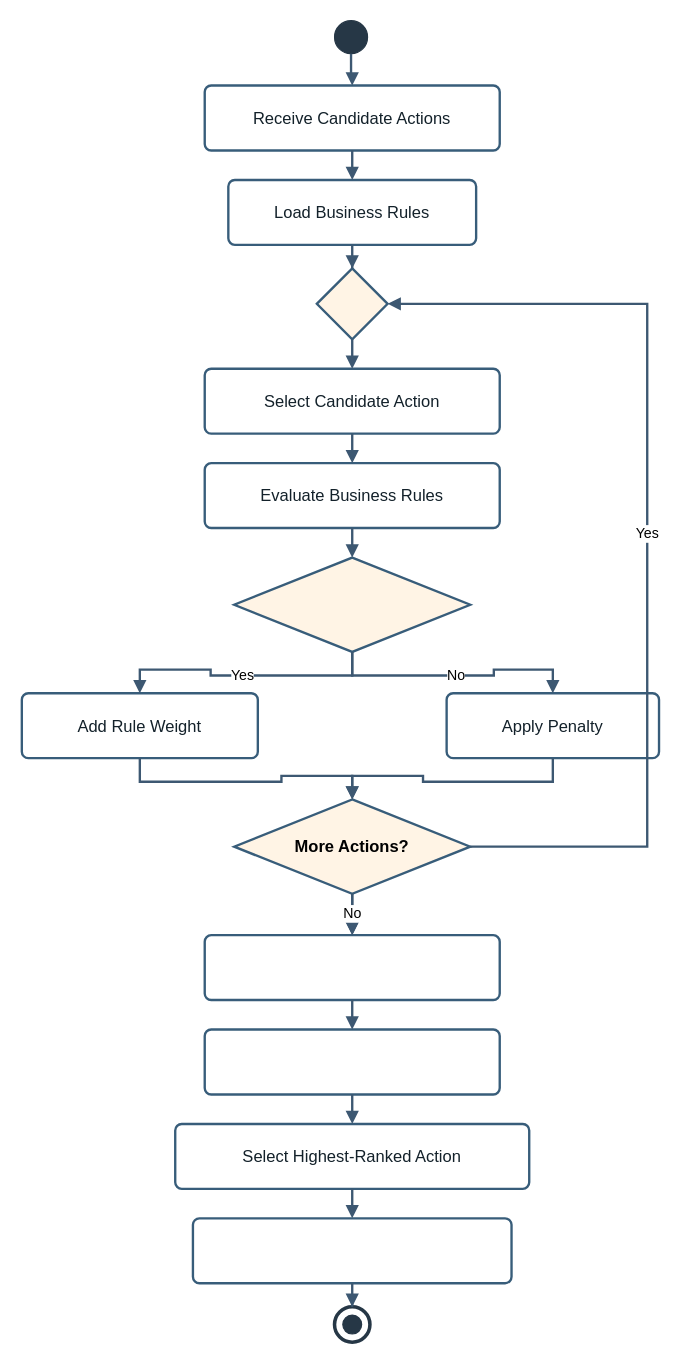
The diagram is 680 pixels wide and 1364 high, and some of its shapes have lost their labels. The box of each missing label's shape, as (x1, y1, x2, y2) in pixels:
Calculate Final Scores: (203, 933, 500, 1001)
Rank Candidate Actions: (203, 1028, 500, 1095)
Return Recommended Action: (191, 1217, 512, 1284)
Rule Satisfied?: (232, 556, 471, 653)
